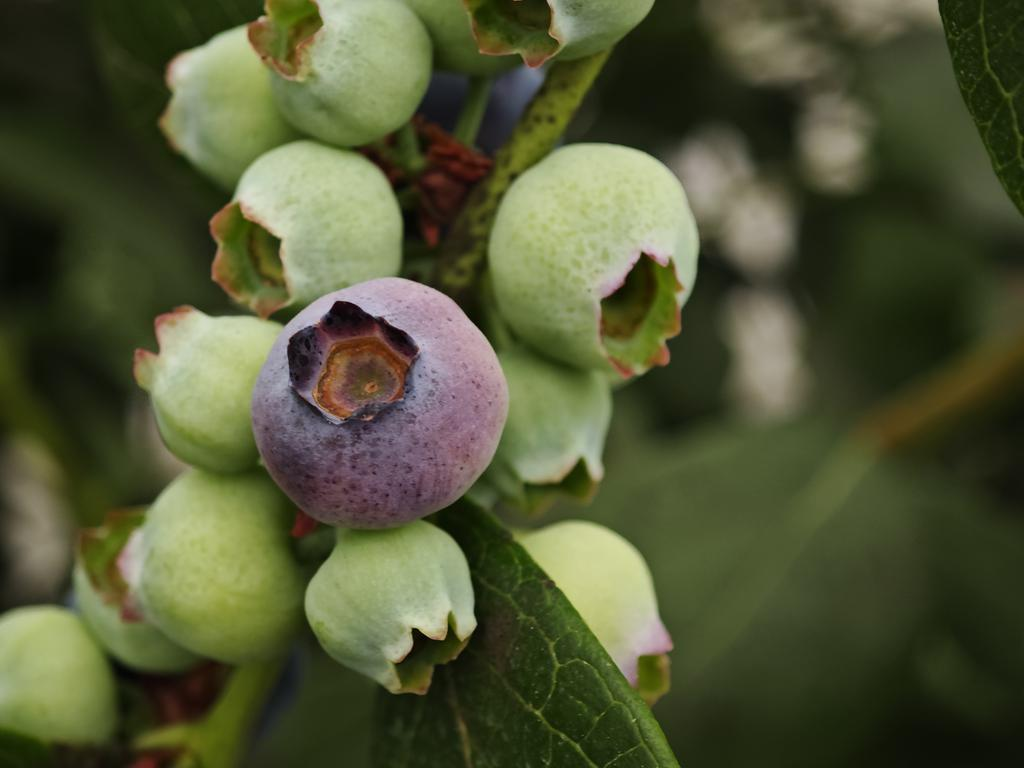Semi-RipeBlueBerry: (260, 278, 500, 521)
UnripeBlueBerry: (494, 139, 707, 369), (308, 531, 476, 690)
